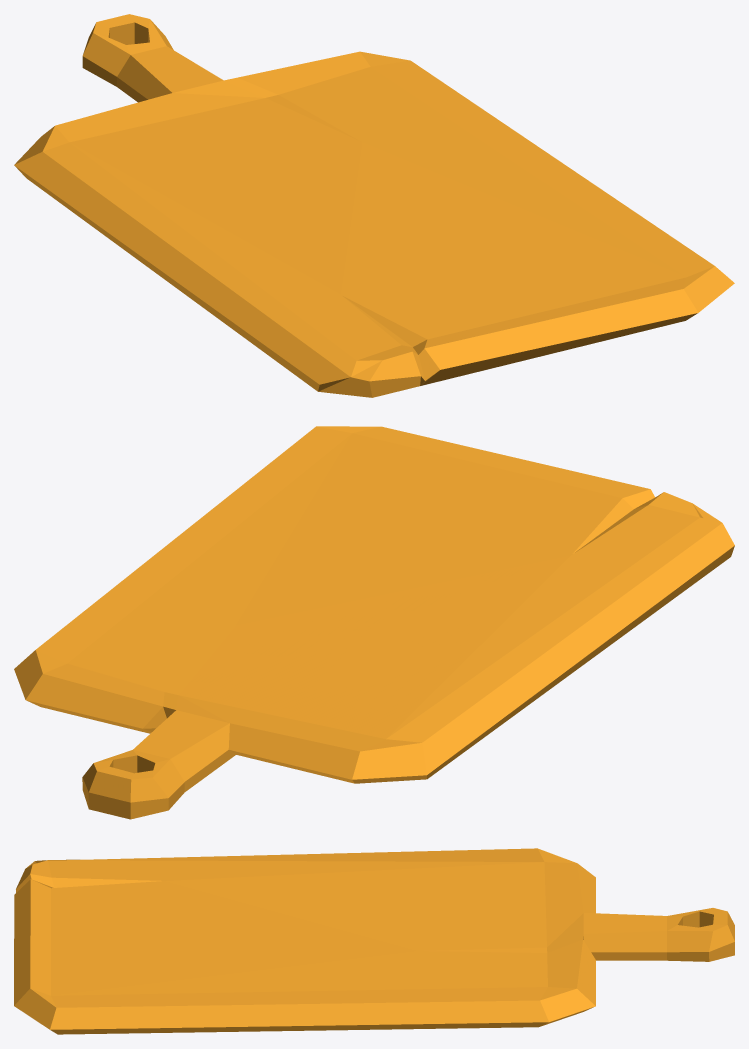
Rendered from SM_Cutting_Board.fbx.
3 views of the same model, one above another, from view 1: azimuth 30°, elevation 25°; view 2: azimuth 150°, elevation 25°; view 3: azimuth 270°, elevation 25° (orthographic). The views are drawn at different scales.
Parts seen in each view (by area): view 1: cutting-board; view 2: cutting-board; view 3: cutting-board.
Part boxes in pixels (bbox=[...]): cutting-board: bbox=[14, 14, 734, 397]; cutting-board: bbox=[14, 426, 734, 819]; cutting-board: bbox=[14, 848, 734, 1034].
Bounding box in the file's own units: 0.2928 × 0.0245 × 0.5163.
